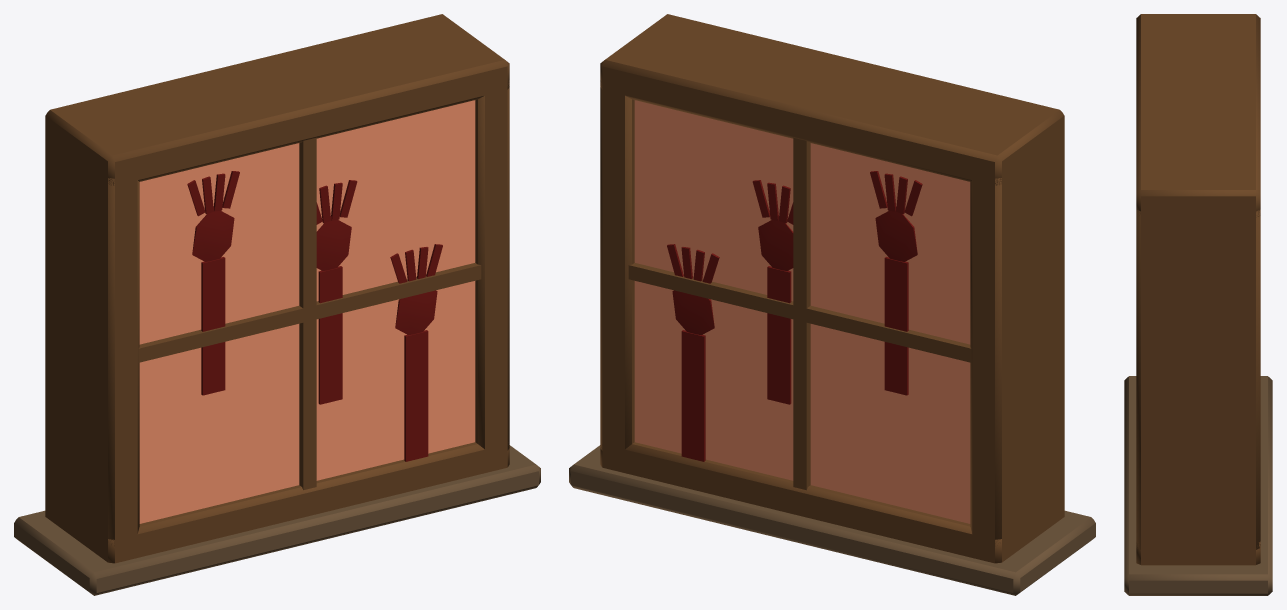
The model's file is window_bloody.glb.
The picture shows the model from 3 angles, left to right: view 1: azimuth 30°, elevation 25°; view 2: azimuth 150°, elevation 25°; view 3: azimuth 270°, elevation 25°; orthographic projection. The views are drawn at different scales.
Parts seen in each view (by area): view 1: window_bloody; view 2: window_bloody; view 3: window_bloody.
Part boxes in pixels (x1,y1,x2,y2): window_bloody: (14, 14, 540, 595); window_bloody: (569, 14, 1095, 595); window_bloody: (1124, 14, 1272, 595).
Bounding box in the file's own units: 2 × 1.82 × 0.62.
